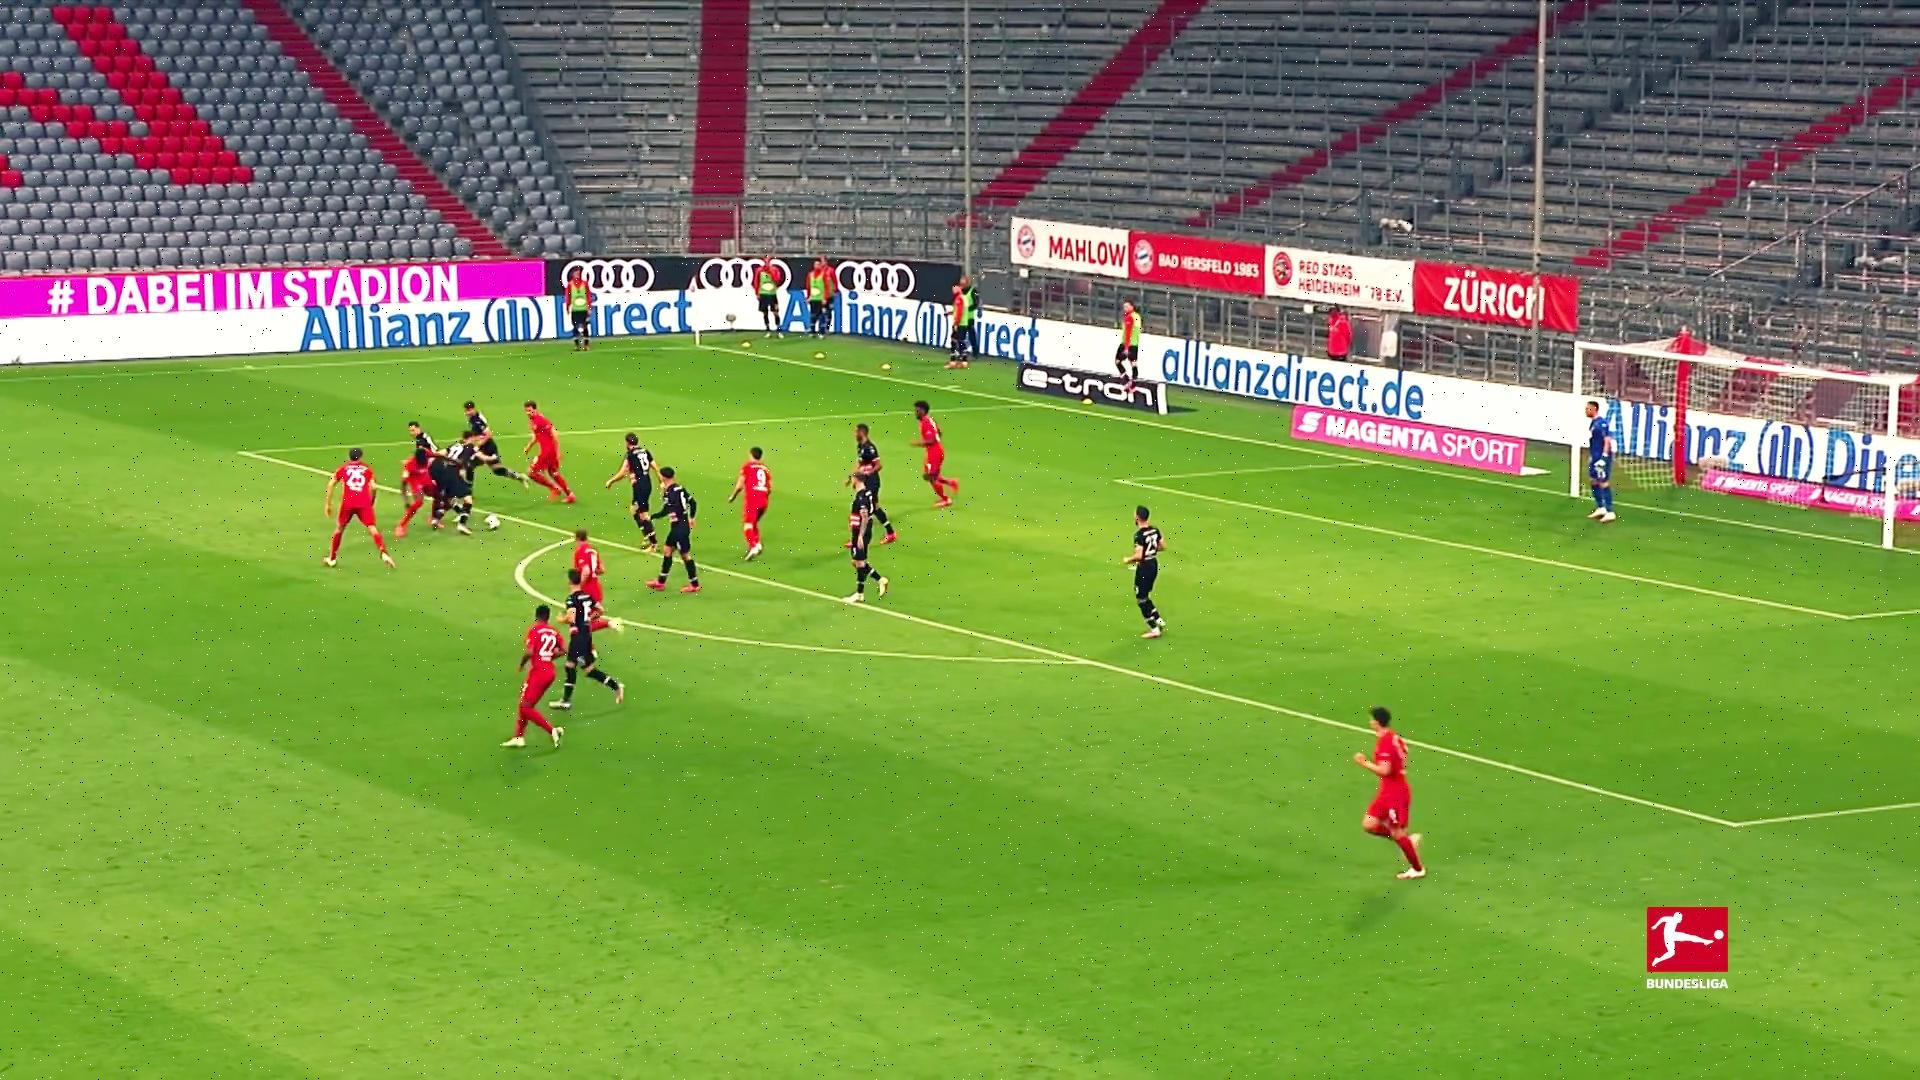ball: (484, 513, 501, 533)
